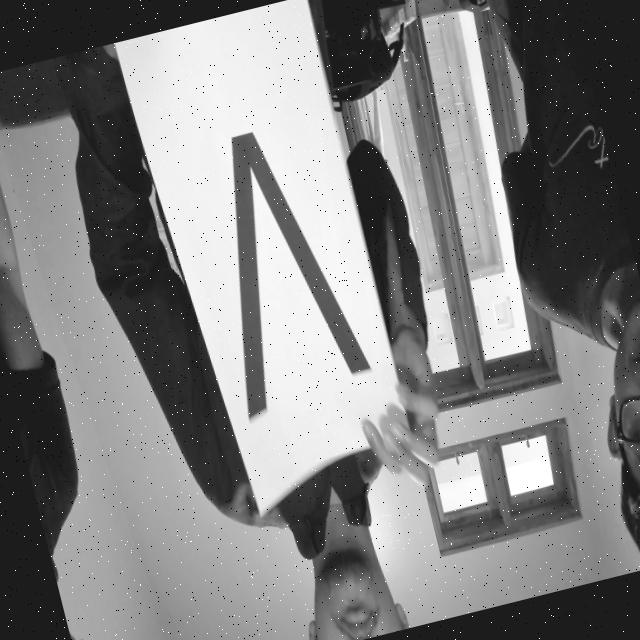v: (152, 88, 388, 440)
